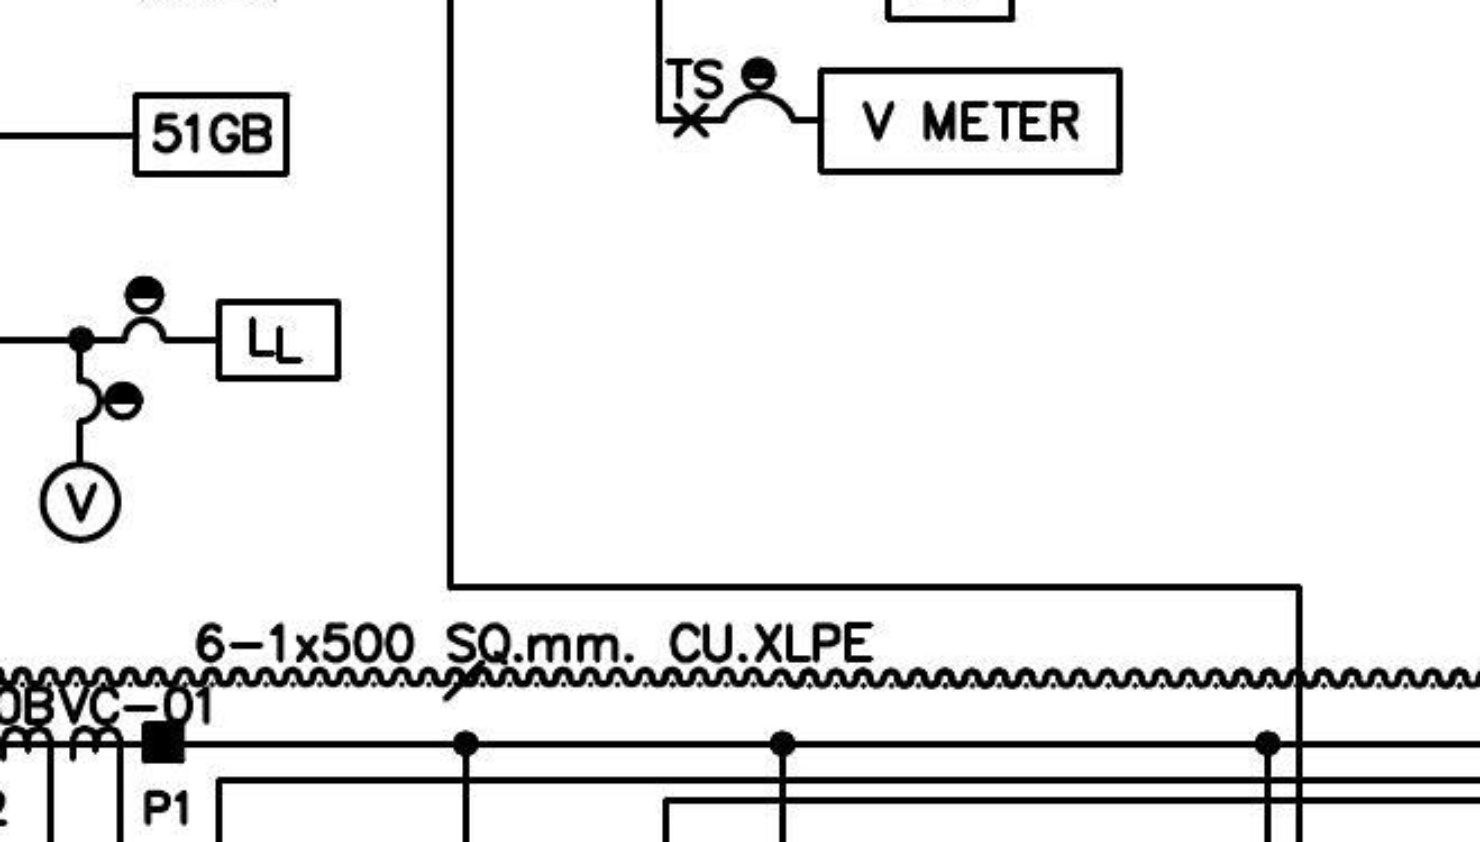LL: (213, 298, 343, 381)
v_m: (37, 460, 123, 546)
v_m_digital: (814, 65, 1125, 178)
